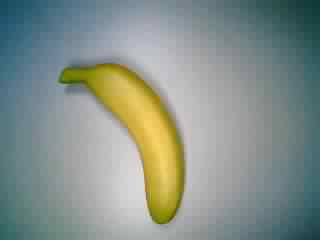banana: (53, 53, 190, 229)
